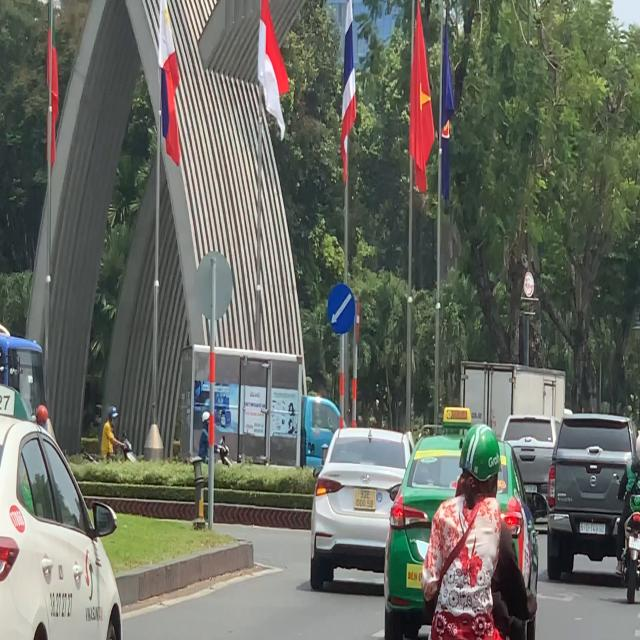Hieu lenh: (327, 283, 355, 334)
